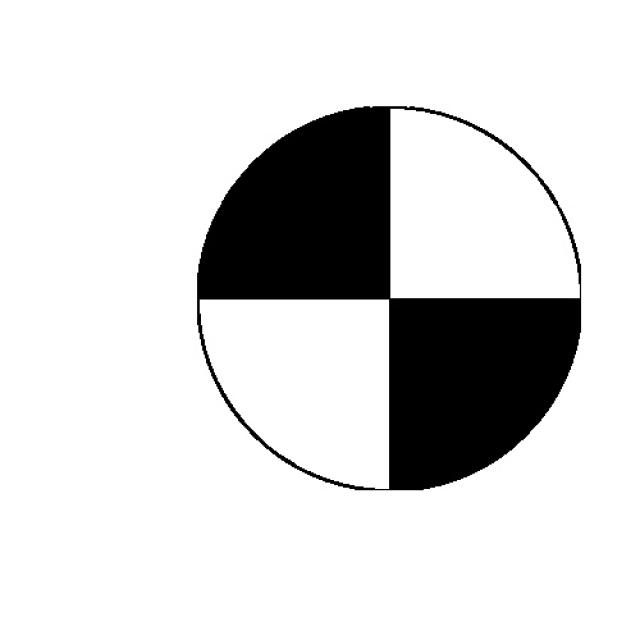Marcadores: (199, 107, 582, 488)
